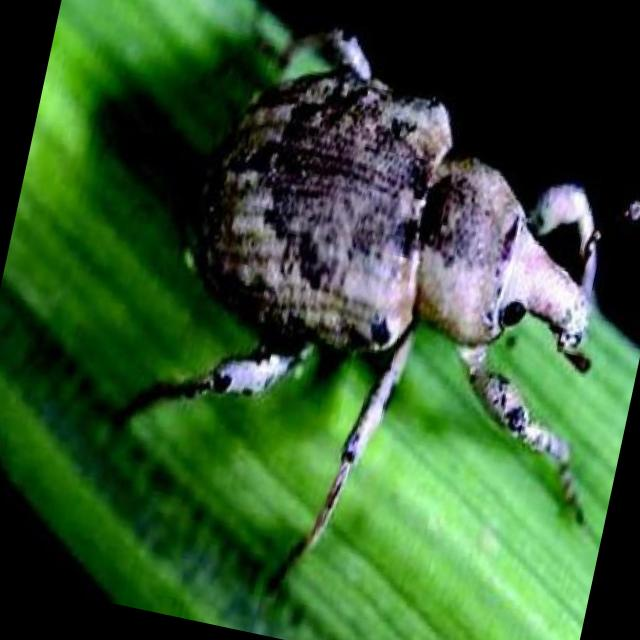rice-bug: (143, 3, 640, 514)
